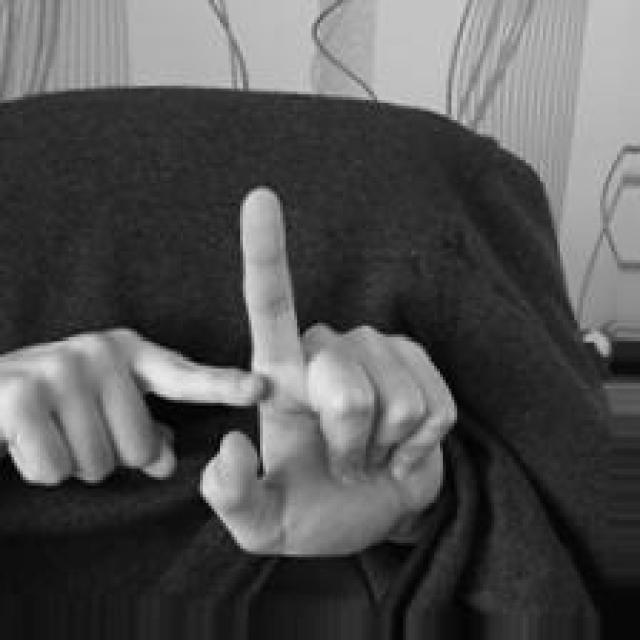J: (0, 187, 458, 560)
